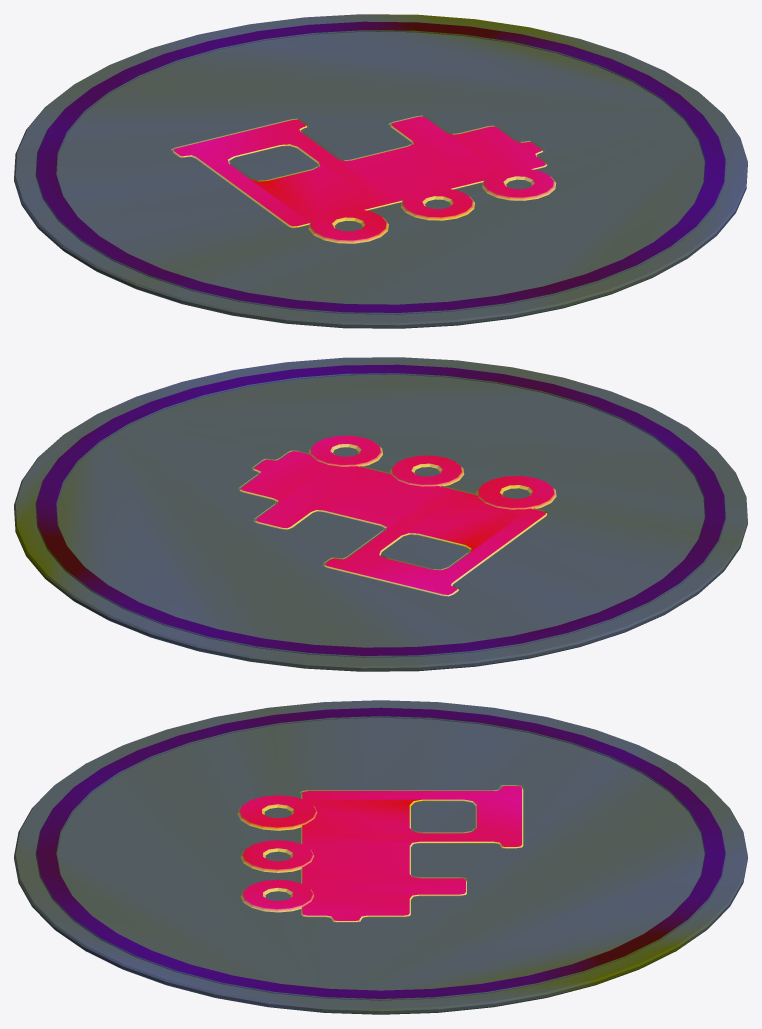
File: GS_Rug.glb
3 views of the same model, one above another, from view 1: azimuth 30°, elevation 25°; view 2: azimuth 150°, elevation 25°; view 3: azimuth 270°, elevation 25° (orthographic).
Parts seen in each view (by area): view 1: GS_Rug; view 2: GS_Rug; view 3: GS_Rug.
Part boxes in pixels (<box>): GS_Rug: <box>14,14,747,328</box>; GS_Rug: <box>14,357,747,671</box>; GS_Rug: <box>14,700,747,1014</box>.
Size of the model in its own units: 3.4 by 0.042 by 3.4.
